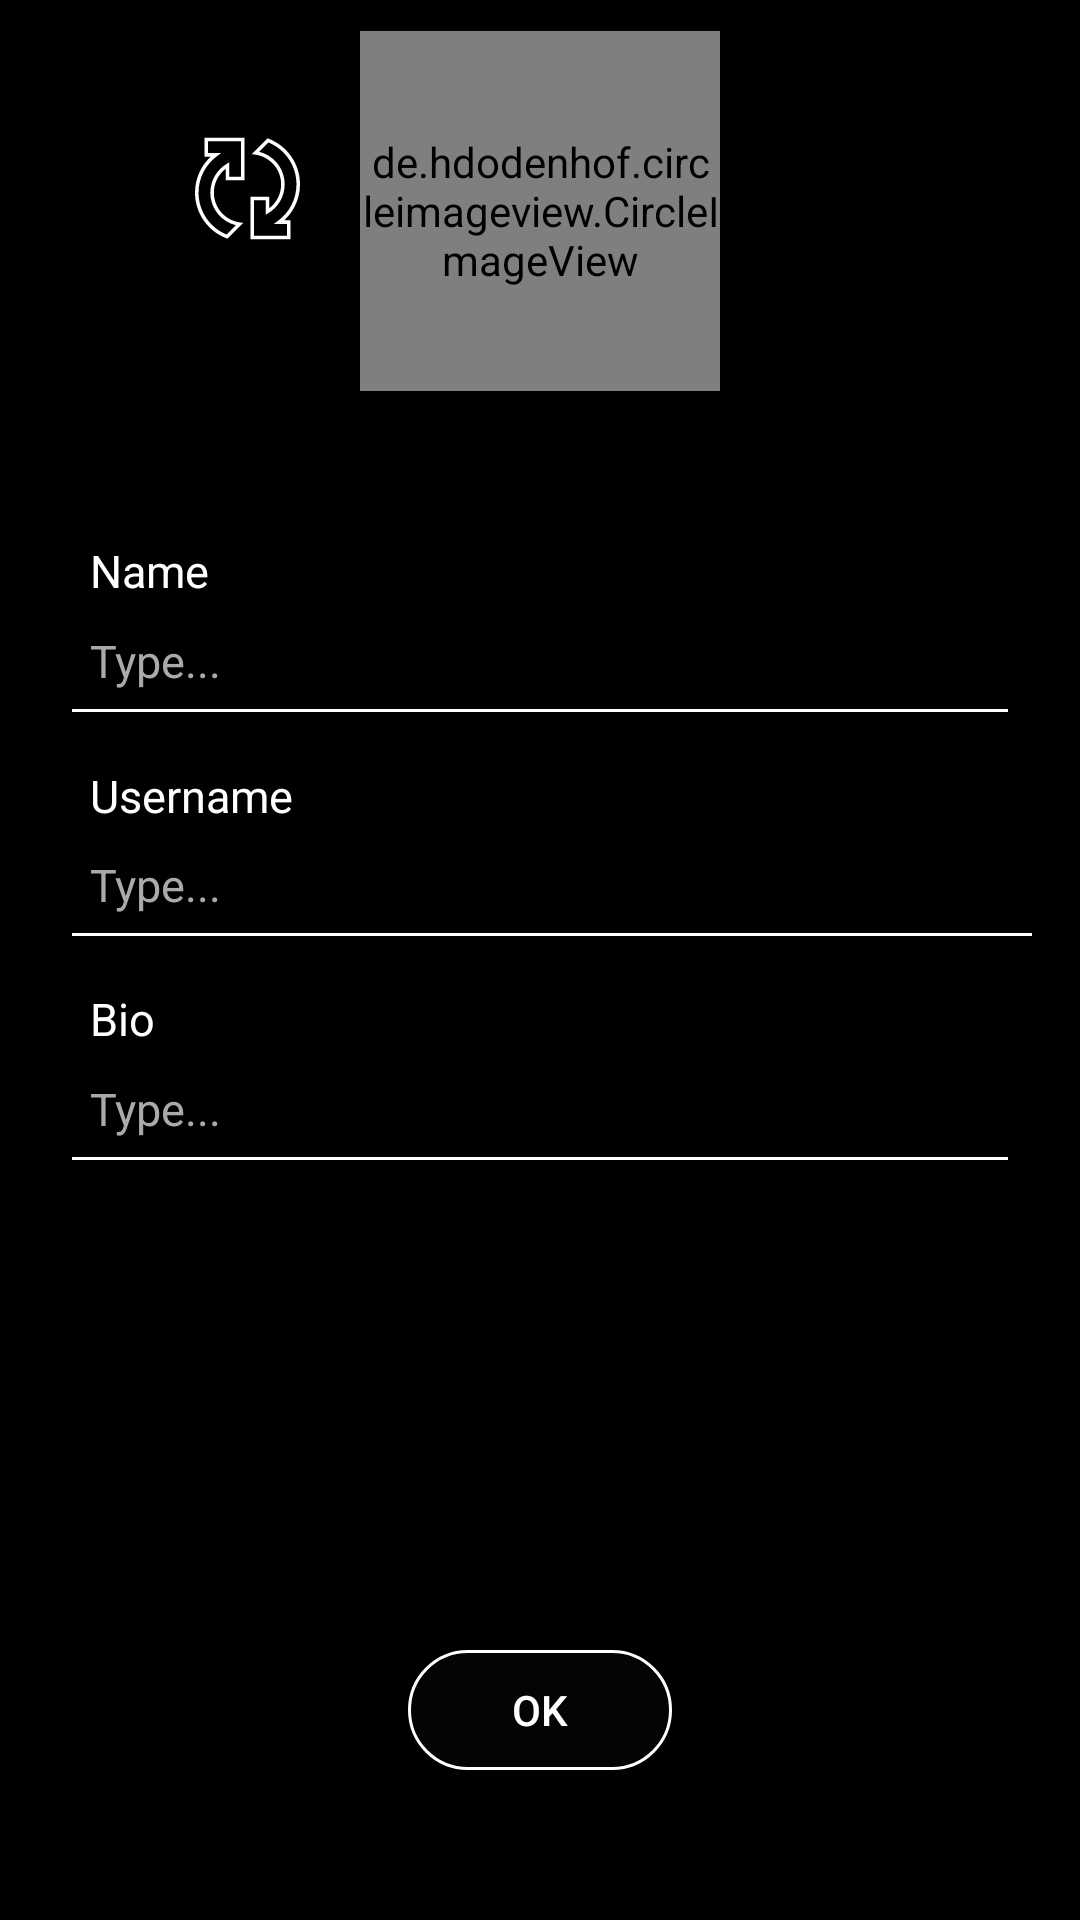

Icons on this 1080*1920 Android screen, each with its box as (x1, y1, x2, y2):
change pic: (195, 137, 300, 240)
